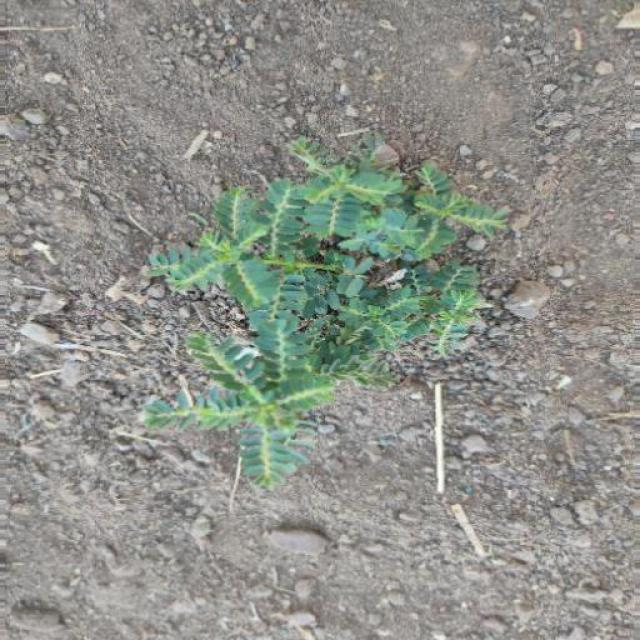weed: (150, 144, 495, 492)
